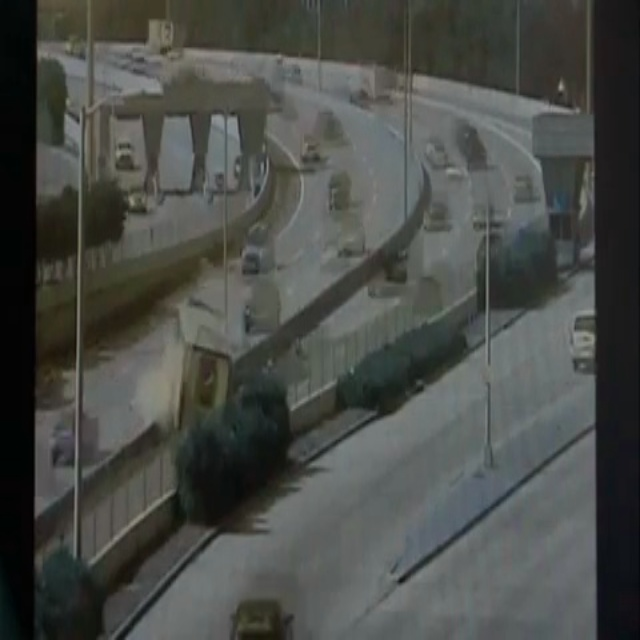acc: (134, 301, 232, 446)
